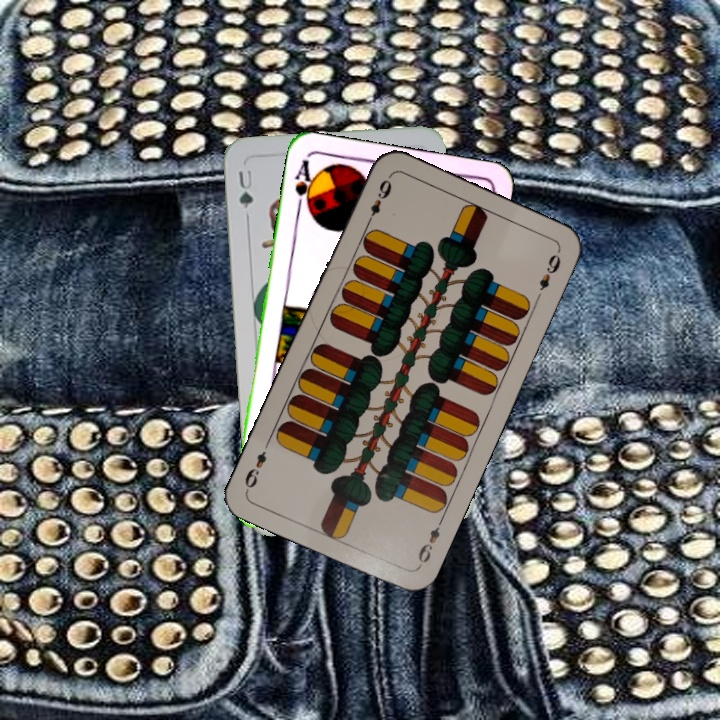E9: (414, 514, 446, 570), (362, 175, 394, 229)
GU: (234, 165, 256, 211)
SA: (290, 156, 319, 217)
